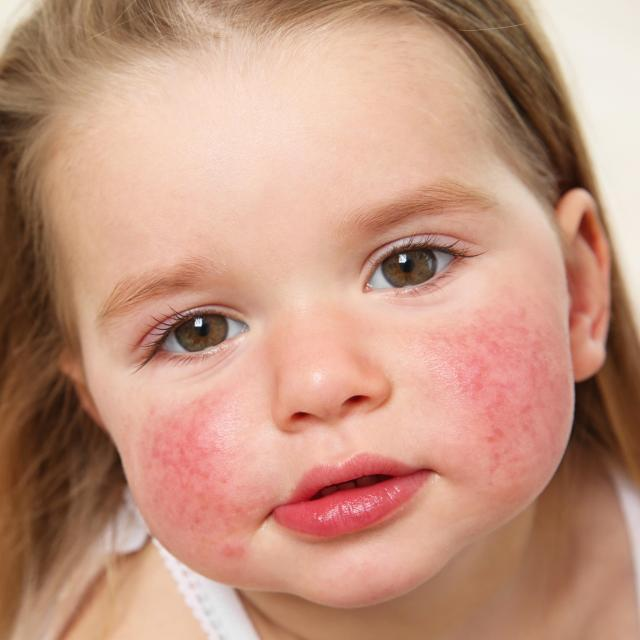skinredness: (414, 314, 576, 475), (128, 387, 261, 554)
